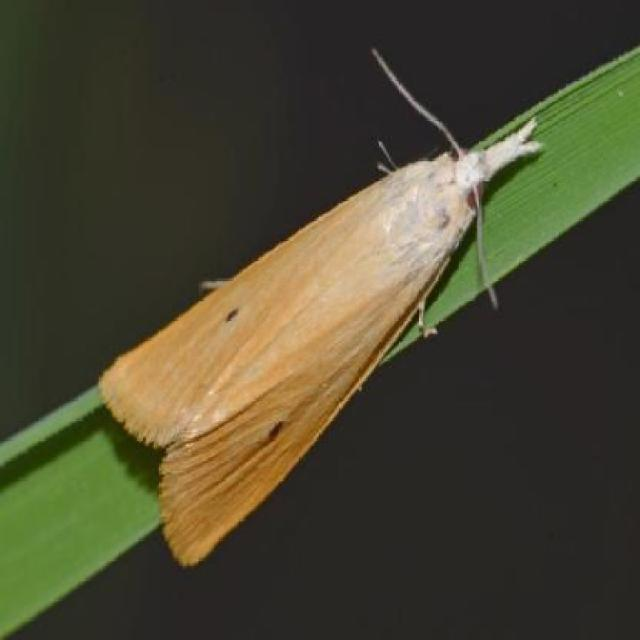stem-borer: (97, 71, 545, 575)
